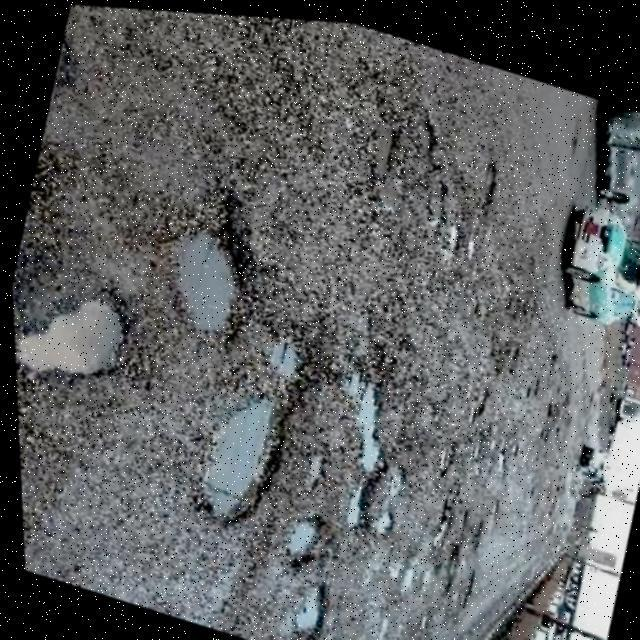pothole: (179, 370, 301, 540), (9, 272, 138, 401), (146, 210, 264, 342), (333, 368, 399, 472), (45, 17, 91, 113), (252, 324, 314, 387), (276, 569, 331, 640), (272, 503, 326, 567), (333, 464, 373, 532)
